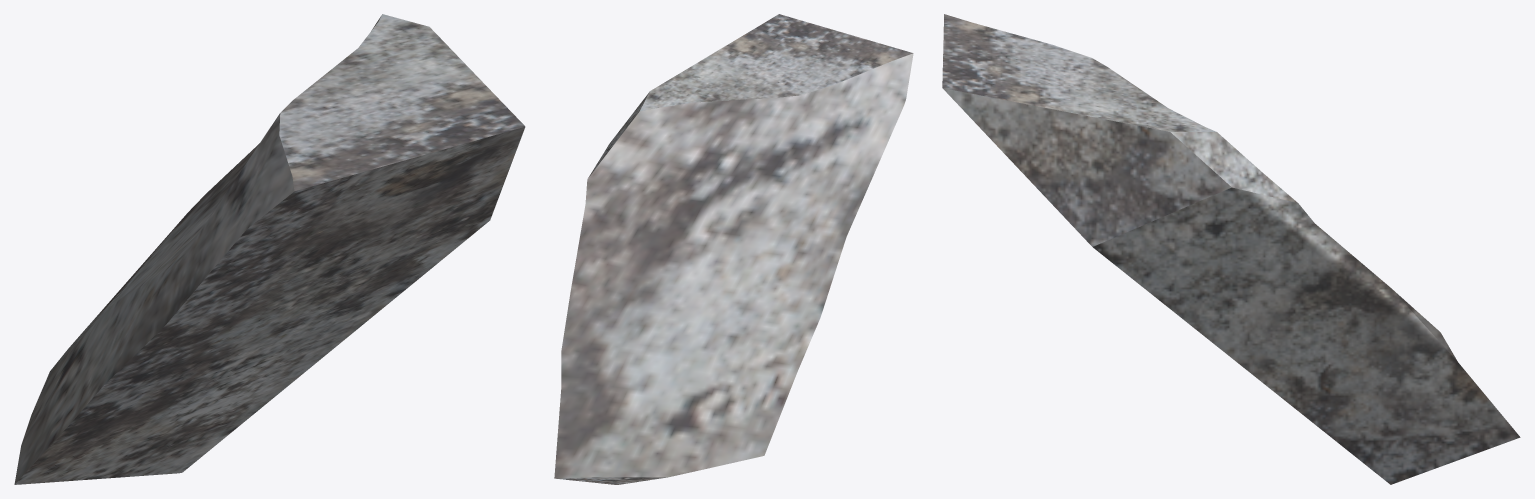
Rendered from Asteroid_Large_001_02_011_03_004.fbx.
3 renders of one model, left to right at view 1: azimuth 30°, elevation 25°; view 2: azimuth 150°, elevation 25°; view 3: azimuth 270°, elevation 25°, orthographic. The views are drawn at different scales.
Parts seen in each view (by area): view 1: Asteroid_Large_001_02_011_03_004; view 2: Asteroid_Large_001_02_011_03_004; view 3: Asteroid_Large_001_02_011_03_004.
Part boxes in pixels (x1,y1,x2,y2): Asteroid_Large_001_02_011_03_004: (14, 14, 525, 484); Asteroid_Large_001_02_011_03_004: (554, 14, 913, 484); Asteroid_Large_001_02_011_03_004: (942, 14, 1520, 484).
Size of the model in its own units: 5.37 by 8.68 by 11.14.
